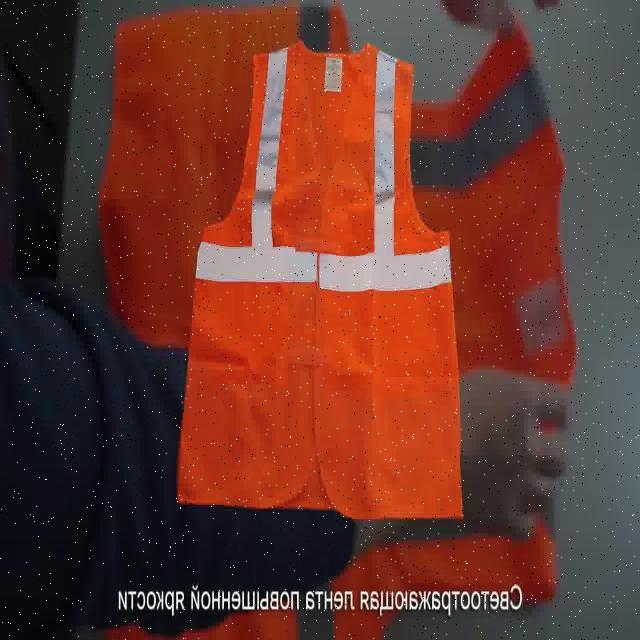Vest: (169, 6, 566, 527)
